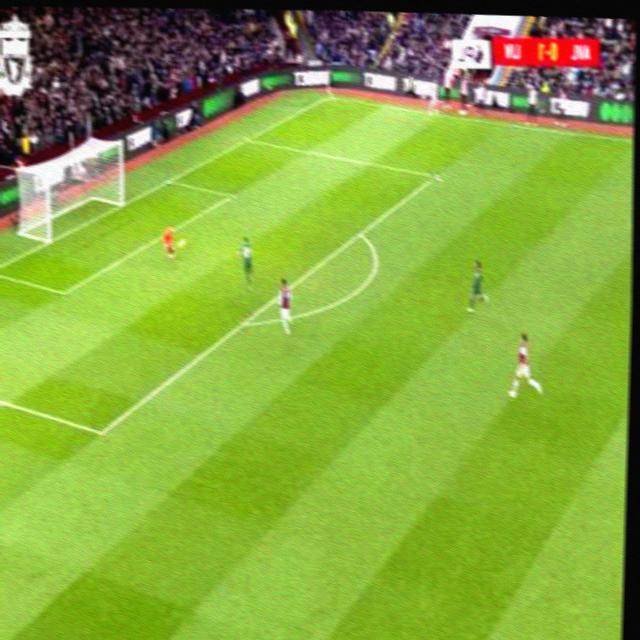bigarea_bottom_inner: (92, 423, 112, 442)
bigarea_top_inner: (428, 169, 443, 181)
bigarea_top_outter: (242, 135, 253, 143)
bottom_arc_area_intersection: (237, 311, 252, 333)
corner: (323, 92, 335, 100)
smallarea_bottom_inner: (57, 286, 70, 299)
smallarea_top_inner: (226, 189, 235, 202)
smallarea_top_outter: (165, 177, 174, 187)
top_arc_area_intersection: (354, 225, 369, 240)
